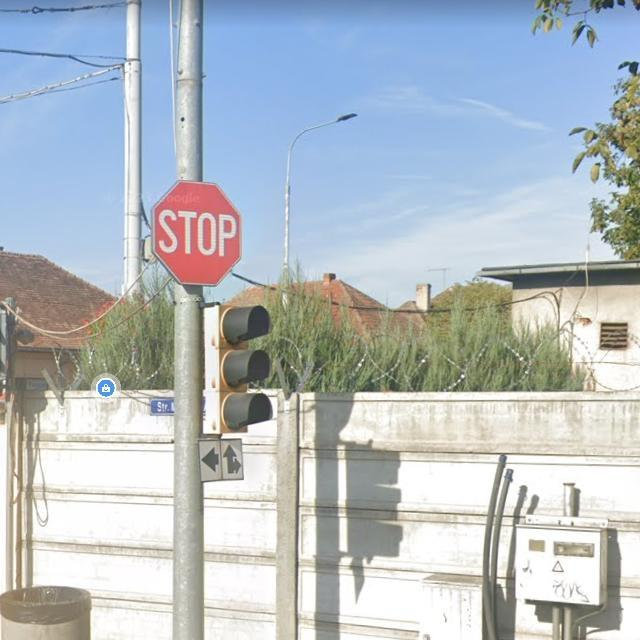prio_stop: (150, 179, 243, 287)
